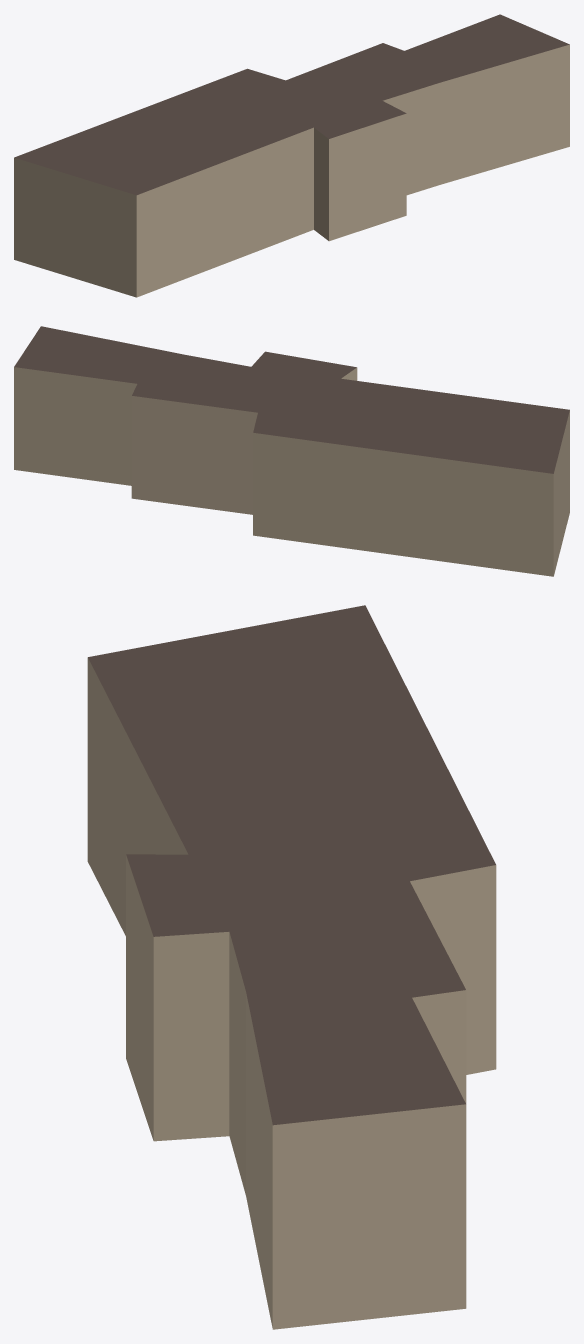
3 renders of one model, top to bottom at view 1: azimuth 30°, elevation 25°; view 2: azimuth 150°, elevation 25°; view 3: azimuth 270°, elevation 25°, orthographic. The views are drawn at different scales.
Visible parts, largest first — view 1: HP-w1512359822; view 2: HP-w1512359822; view 3: HP-w1512359822.
Boxes of the visible parts, <box> form: HP-w1512359822: <box>14,14,569,297</box>; HP-w1512359822: <box>14,326,569,576</box>; HP-w1512359822: <box>87,605,496,1329</box>.
Bounding box in the file's own units: 49.09 × 9 × 16.3.
